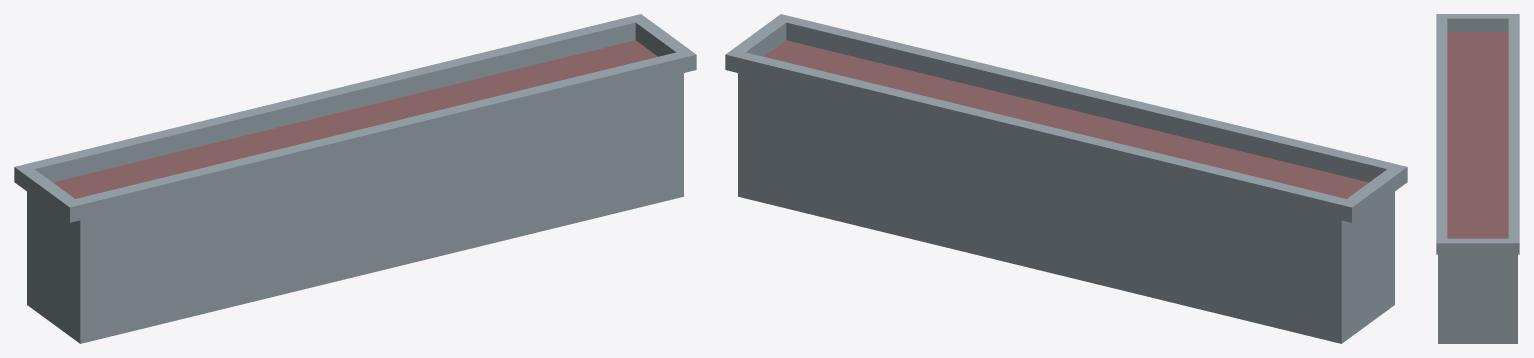
The model's file is EmptyPlanter.obj.
The picture shows the model from 3 angles, left to right: view 1: azimuth 30°, elevation 25°; view 2: azimuth 150°, elevation 25°; view 3: azimuth 270°, elevation 25°; orthographic projection. The views are drawn at different scales.
Visible parts, largest first — view 1: EmptyPlanter_Cube.006; view 2: EmptyPlanter_Cube.006; view 3: EmptyPlanter_Cube.006.
Boxes of the visible parts, left/top/right/bottom form: EmptyPlanter_Cube.006: left=14, top=14, right=696, bottom=343; EmptyPlanter_Cube.006: left=725, top=14, right=1407, bottom=343; EmptyPlanter_Cube.006: left=1436, top=14, right=1519, bottom=343.
Bounding box in the file's own units: 13.53 × 2.89 × 2.08.
